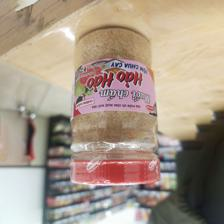Hao_hao: (67, 27, 163, 187)
